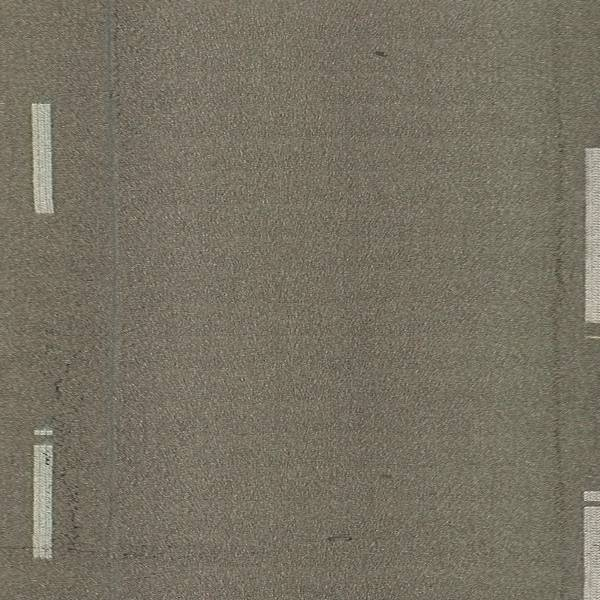road_damage: (51, 351, 104, 564), (546, 123, 574, 483)
